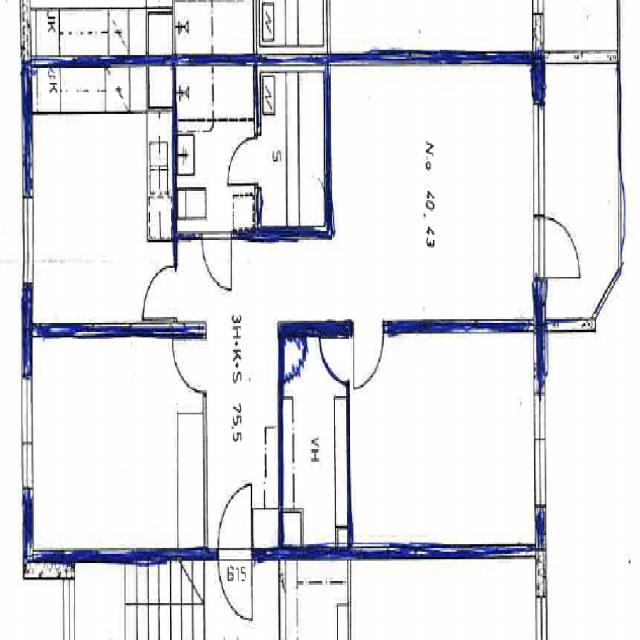door: (534, 214, 579, 278), (218, 486, 252, 560), (218, 545, 252, 619), (354, 318, 383, 382), (173, 339, 207, 392), (144, 266, 177, 320), (202, 234, 232, 293), (228, 138, 260, 184), (320, 337, 351, 384)
